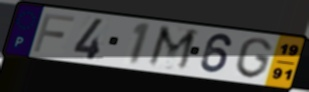1: (127, 21, 153, 67)
4: (72, 16, 105, 62)
6: (199, 33, 233, 75)
F: (30, 11, 77, 54)
G: (233, 36, 275, 81)
M: (144, 24, 201, 74)
